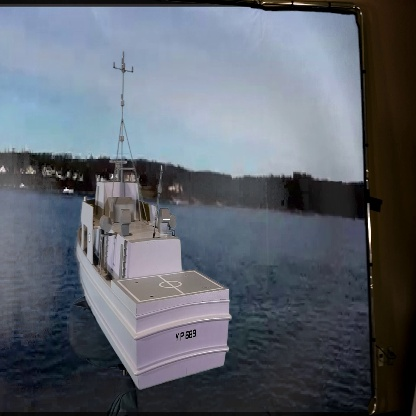YP689: (75, 55, 232, 393)
